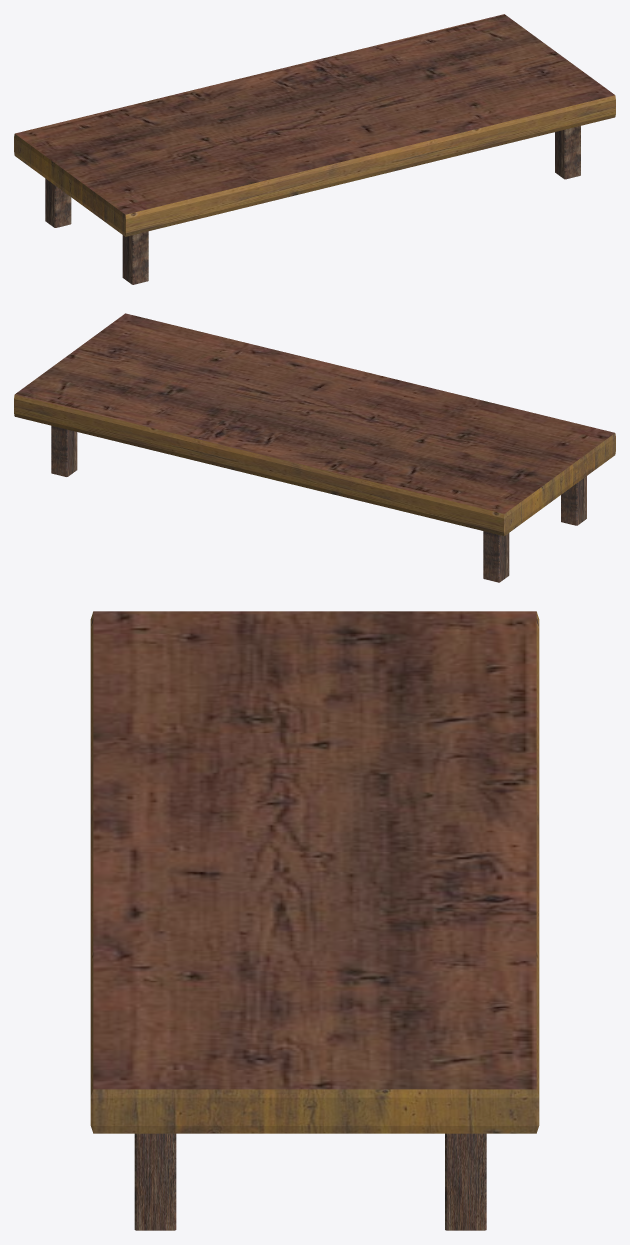
The picture shows the model from 3 angles, top to bottom: view 1: azimuth 30°, elevation 25°; view 2: azimuth 150°, elevation 25°; view 3: azimuth 270°, elevation 25°; orthographic projection. The views are drawn at different scales.
Parts seen in each view (by area): view 1: polySurface134; view 2: polySurface134; view 3: polySurface134.
Boxes of the visible parts, bbox=[...] form: polySurface134: bbox=[14, 14, 615, 284]; polySurface134: bbox=[14, 313, 615, 582]; polySurface134: bbox=[90, 611, 539, 1230].
Bounding box in the file's own units: 64.11 × 10.27 × 25.37.
